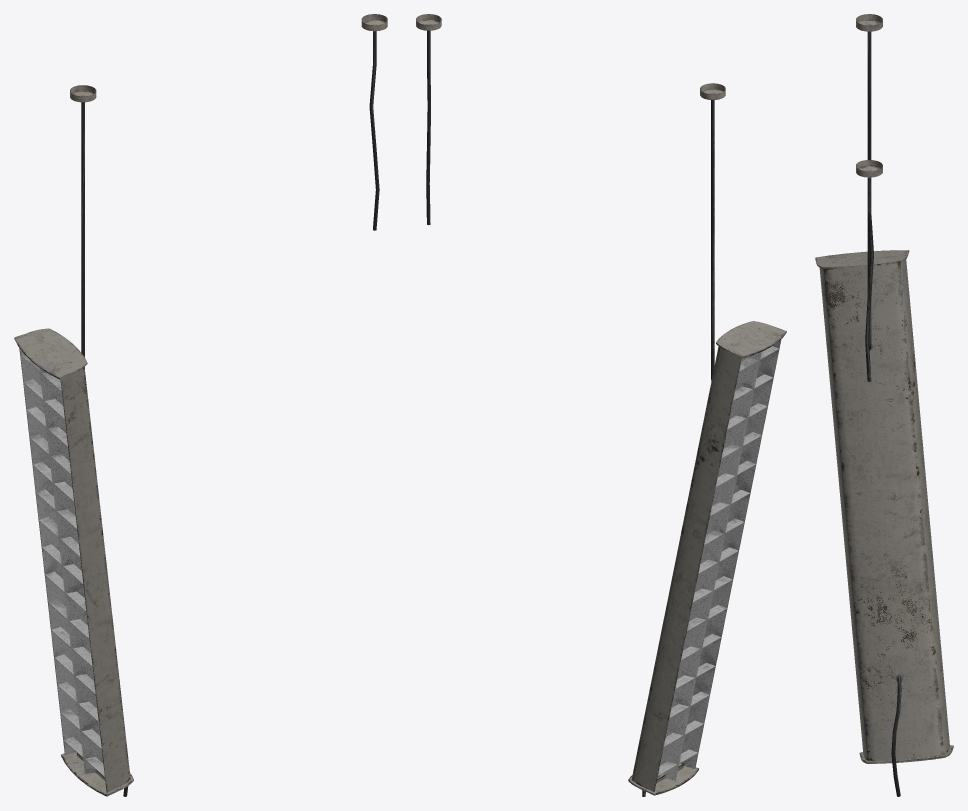
The model's file is LampFluoHangingC.fbx.
The picture shows the model from 3 angles, left to right: view 1: azimuth 30°, elevation 25°; view 2: azimuth 150°, elevation 25°; view 3: azimuth 270°, elevation 25°; orthographic projection. The views are drawn at different scales.
Parts seen in each view (by area): view 1: LampFluoHangingC_LOD0; view 2: LampFluoHangingC_LOD0; view 3: LampFluoHangingC_LOD0.
Part boxes in pixels (x1,y1,x2,y2): LampFluoHangingC_LOD0: (14,14,387,796); LampFluoHangingC_LOD0: (416,14,786,796); LampFluoHangingC_LOD0: (815,14,953,796).
Size of what is drawn, in the model's own units: 124 by 242 by 40.64.
